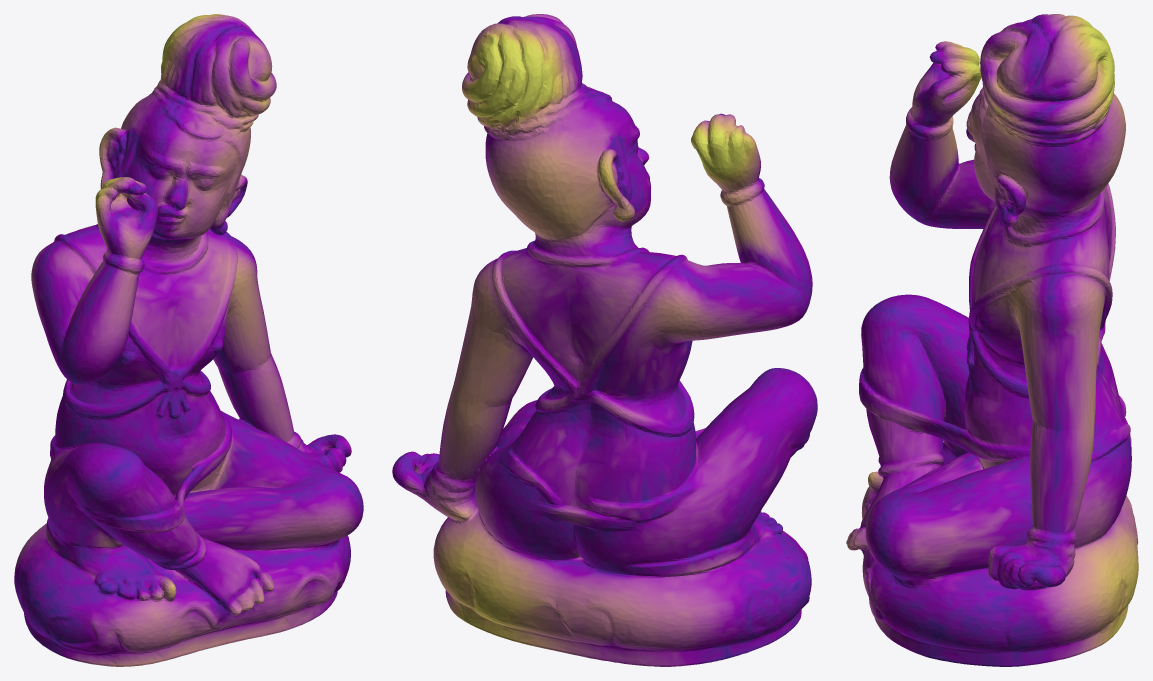
Rendered from iter_7.glb.
3 views of the same model, side by side, from view 1: azimuth 30°, elevation 25°; view 2: azimuth 150°, elevation 25°; view 3: azimuth 270°, elevation 25° (orthographic). The views are drawn at different scales.
Visible parts, largest first — view 1: textured_mesh; view 2: textured_mesh; view 3: textured_mesh.
Part boxes in pixels (x1,y1,x2,y2): textured_mesh: [14, 14, 363, 666]; textured_mesh: [392, 14, 817, 666]; textured_mesh: [846, 14, 1138, 666].
Size of the model in its own units: 1.31 by 1.99 by 0.876.
